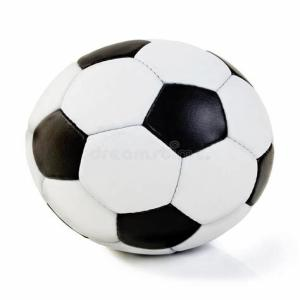Football: (23, 39, 275, 256)
